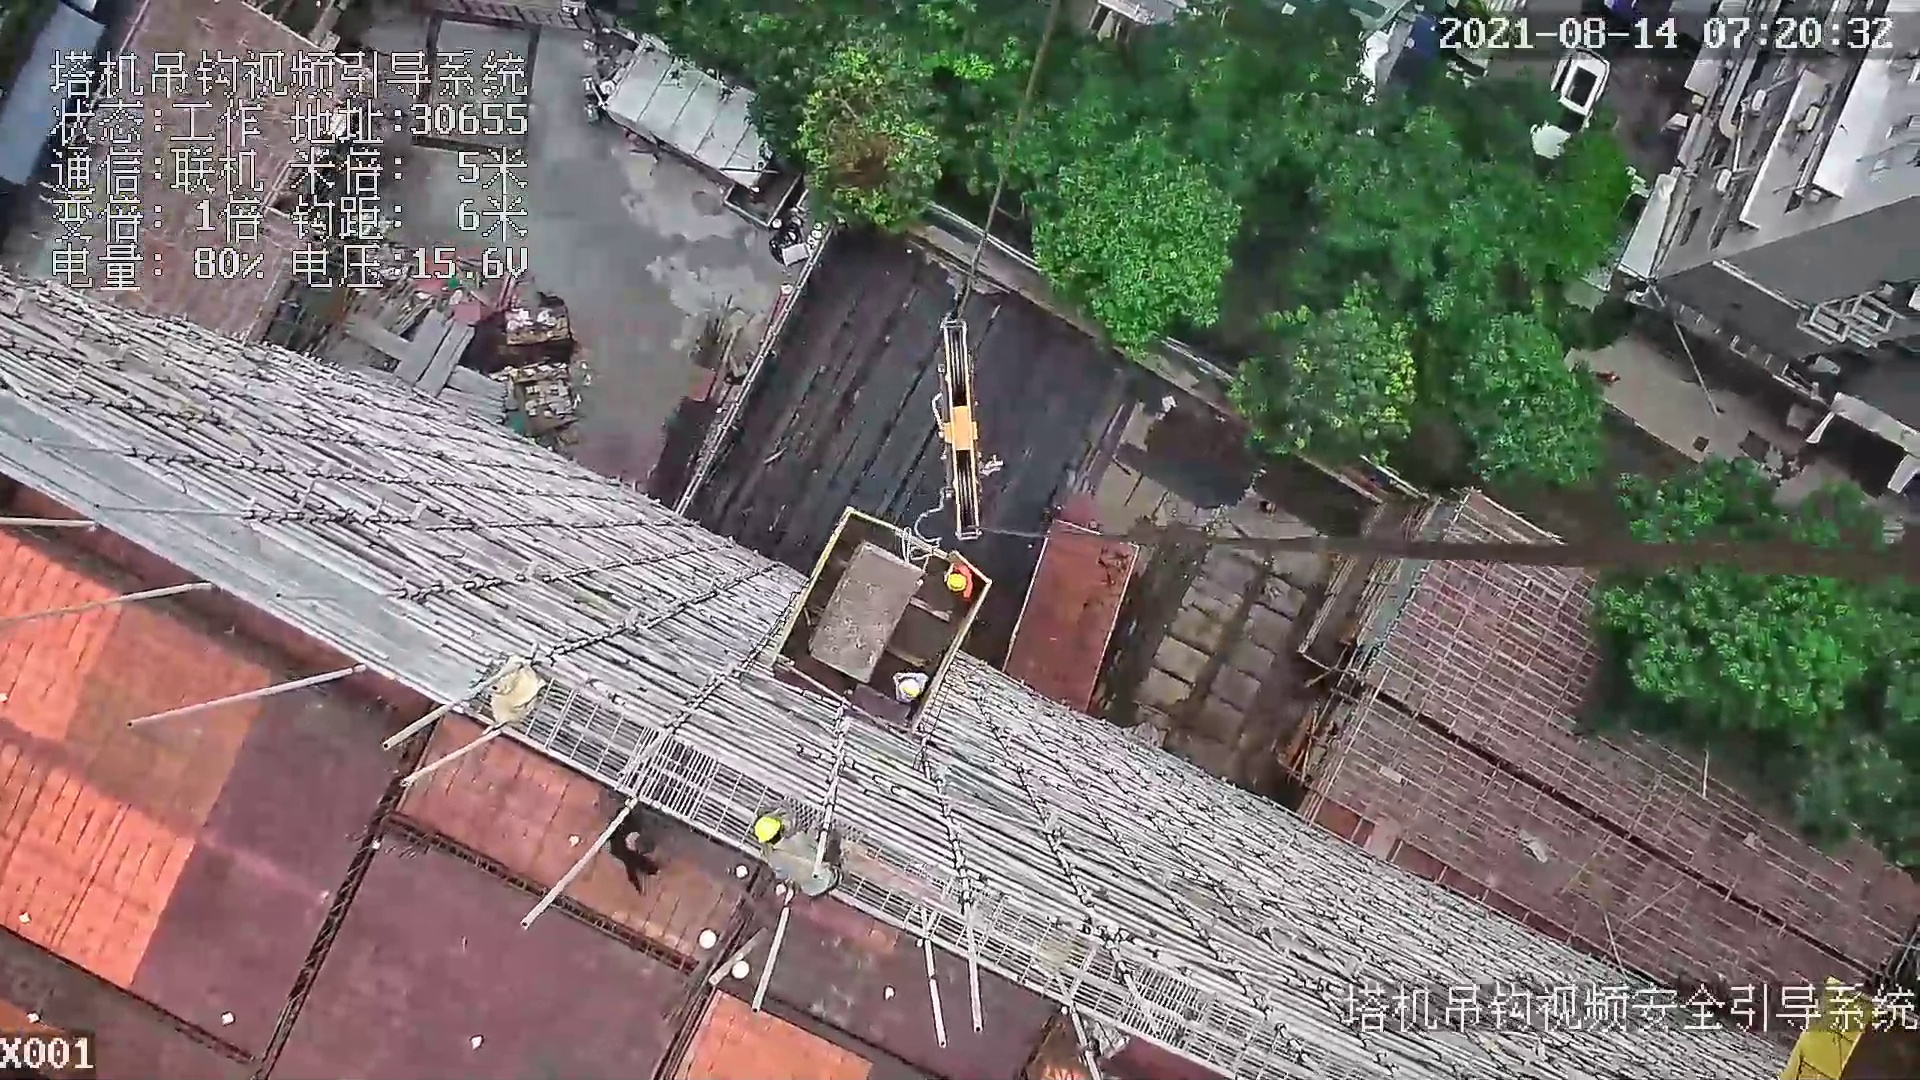helmet: (752, 813, 785, 845), (944, 573, 968, 594), (899, 681, 920, 698)
hook: (927, 313, 1017, 554)
person: (755, 804, 850, 900), (600, 812, 664, 894), (890, 667, 928, 708), (951, 558, 976, 594)
